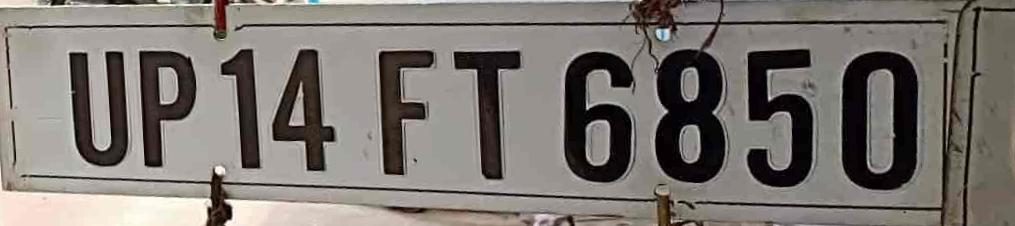0: (833, 40, 931, 200)
1: (215, 44, 267, 175)
4: (266, 43, 344, 176)
5: (738, 40, 825, 197)
6: (552, 39, 644, 188)
8: (644, 40, 733, 191)
F: (365, 36, 443, 184)
P: (134, 38, 206, 176)
T: (443, 30, 528, 188)
U: (54, 38, 137, 171)
